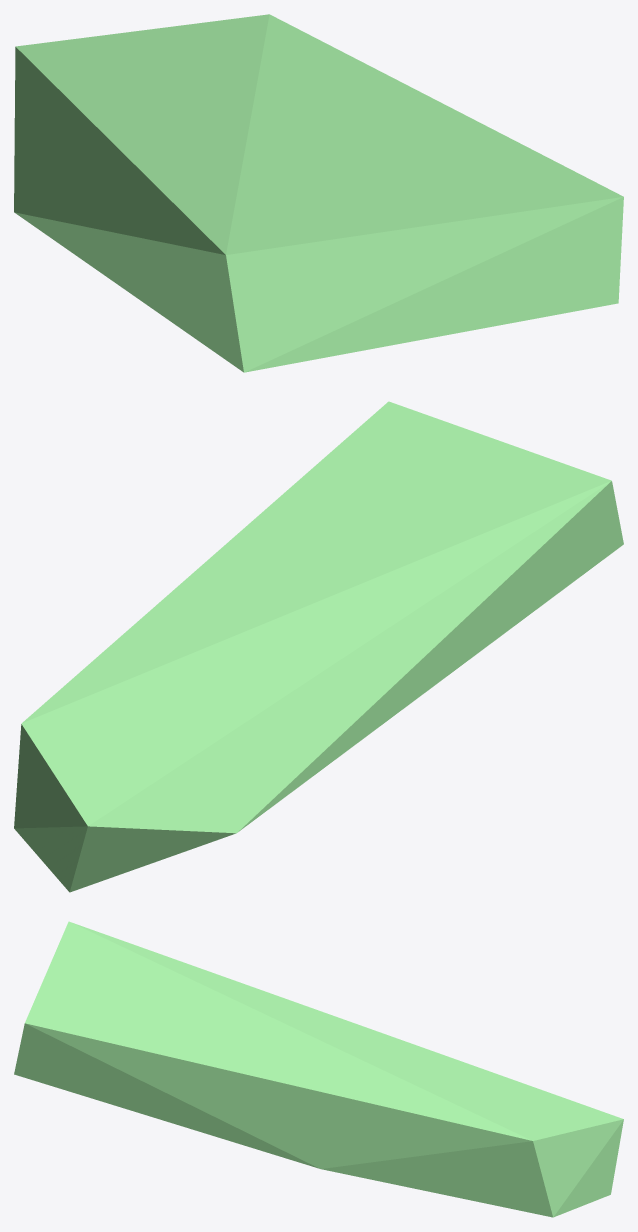
File: dvkr_robot_L3_dx_respondable_TOOL2_coll_1.dae
The picture shows the model from 3 angles, top to bottom: view 1: azimuth 30°, elevation 25°; view 2: azimuth 150°, elevation 25°; view 3: azimuth 270°, elevation 25°; orthographic projection. The views are drawn at different scales.
Visible parts, largest first — view 1: Node_0000023514CD72A0; view 2: Node_0000023514CD72A0; view 3: Node_0000023514CD72A0.
Boxes of the visible parts, left/top/right/bottom form: Node_0000023514CD72A0: left=14, top=14, right=623, bottom=372; Node_0000023514CD72A0: left=14, top=401, right=623, bottom=892; Node_0000023514CD72A0: left=14, top=921, right=623, bottom=1217.
Size of the model in its own units: 0.0025 by 0.00173 by 0.00512.
